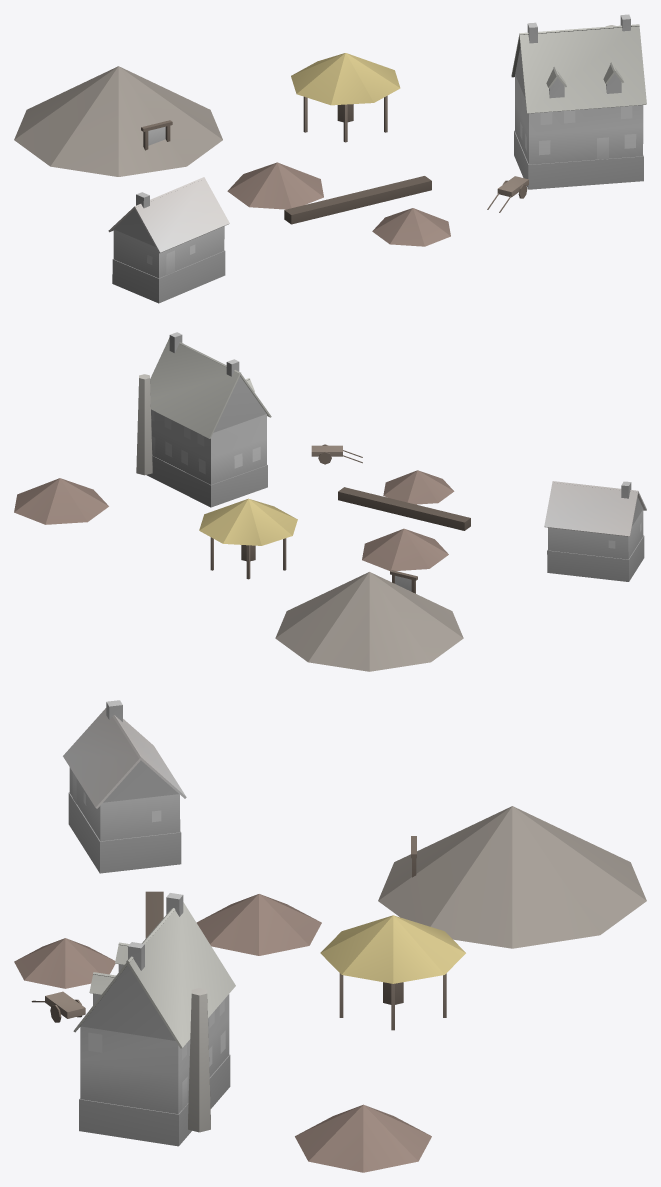
Rendered from mine_2.glb.
3 renders of one model, top to bottom at view 1: azimuth 30°, elevation 25°; view 2: azimuth 150°, elevation 25°; view 3: azimuth 270°, elevation 25°, orthographic. The views are drawn at different scales.
Visible parts, largest first — view 1: mine_2; view 2: mine_2; view 3: mine_2.
Boxes of the visible parts, x1=… form: mine_2: x1=14, y1=14, x2=646, y2=303; mine_2: x1=14, y1=332, x2=646, y2=671; mine_2: x1=14, y1=700, x2=646, y2=1172.
Bounding box in the file's own units: 59.63 × 13.97 × 42.47.
